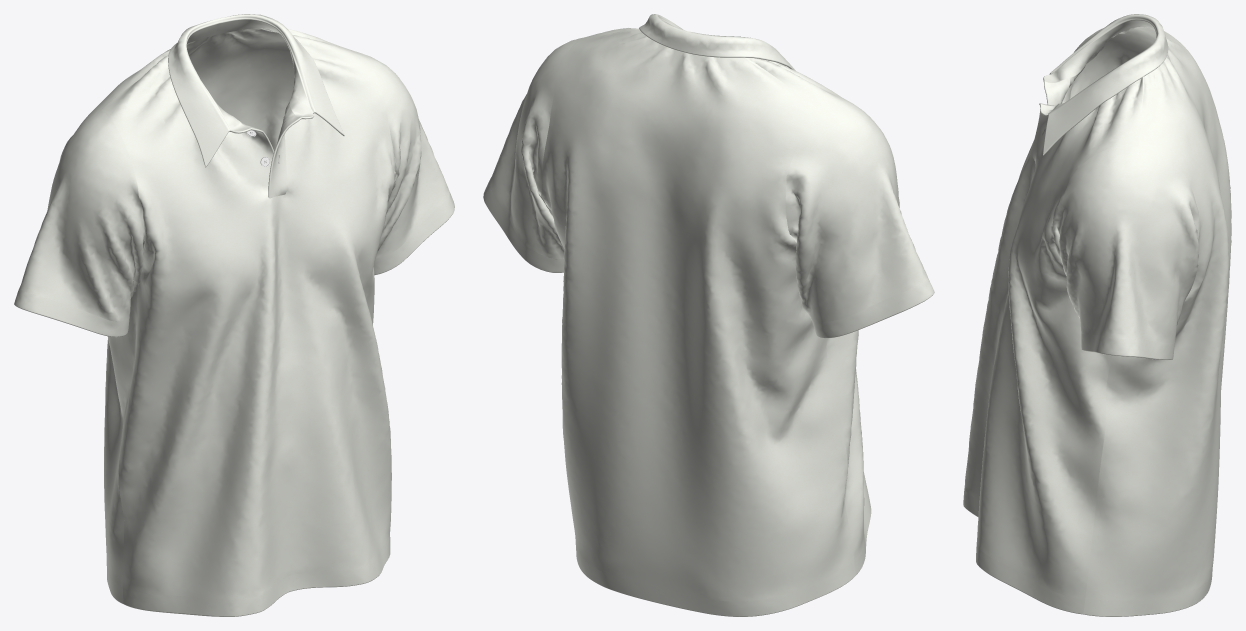
The model's file is polo.glb.
3 renders of one model, left to right at view 1: azimuth 30°, elevation 25°; view 2: azimuth 150°, elevation 25°; view 3: azimuth 270°, elevation 25°, orthographic. The views are drawn at different scales.
Visible parts, largest first — view 1: Short Sleeve Polo; view 2: Short Sleeve Polo; view 3: Short Sleeve Polo.
Boxes of the visible parts, bbox=[...] form: Short Sleeve Polo: bbox=[14, 14, 454, 616]; Short Sleeve Polo: bbox=[483, 14, 934, 616]; Short Sleeve Polo: bbox=[963, 14, 1231, 616].
Size of the model in its own units: 0.6034 by 0.7168 by 0.3268.
3 materials, 2 textured.
